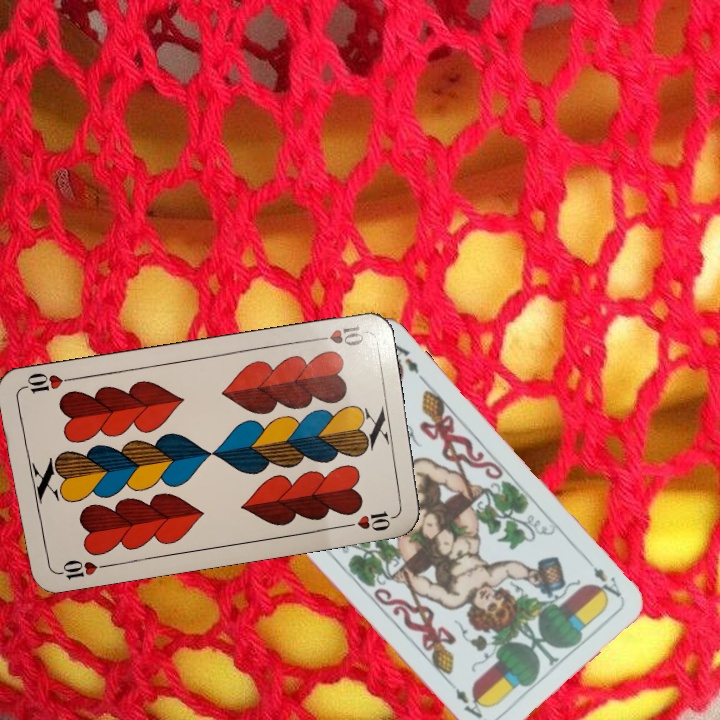EA: (580, 552, 625, 601)
H10: (308, 320, 367, 349), (51, 555, 110, 582)
